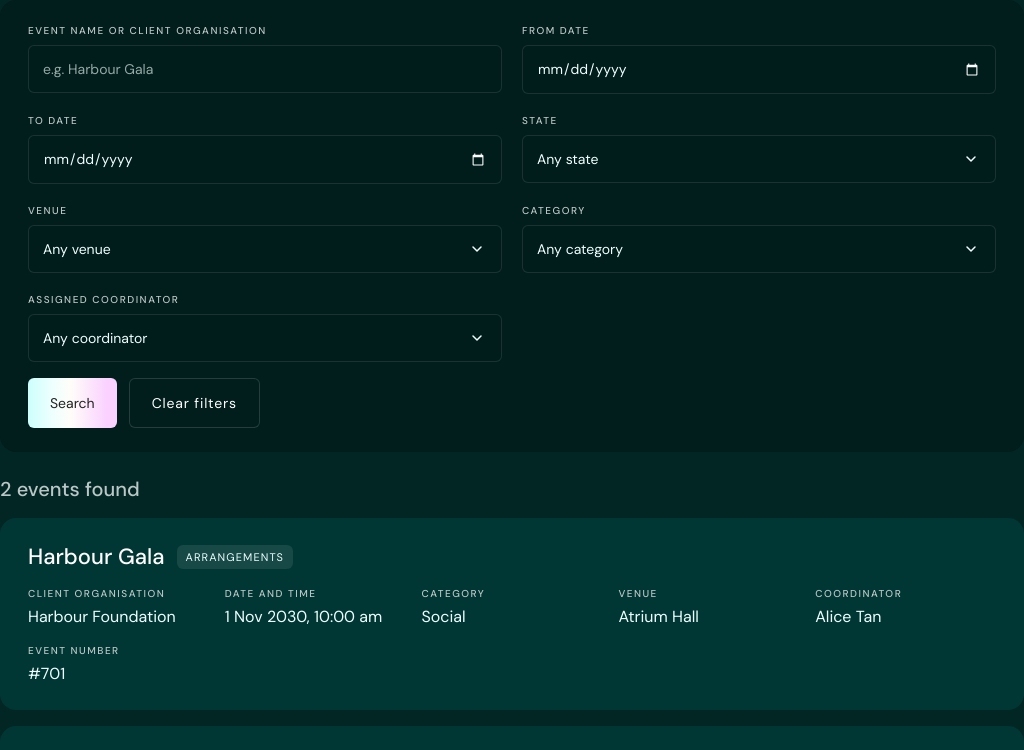
EventSearch (SG2-70) › [NORMAL] [SG2-70:AC1] [SG2-70:AC2] the search text and every filter are sent together
Check: the heading "2 events found" is shown, box [0,476,140,502]
Check: the dropdown labelled "Venue" is enabled, box [28,225,502,273]
Type " harbour " into the search field labelled "Event name or client organisation" at (265, 69), box [28,45,502,93]
Type "2030-11-01" into the date field labelled "From date" at (759, 70), box [522,45,996,94]
Type "2030-11-30" into the date field labelled "To date" at (265, 160), box [28,135,502,184]
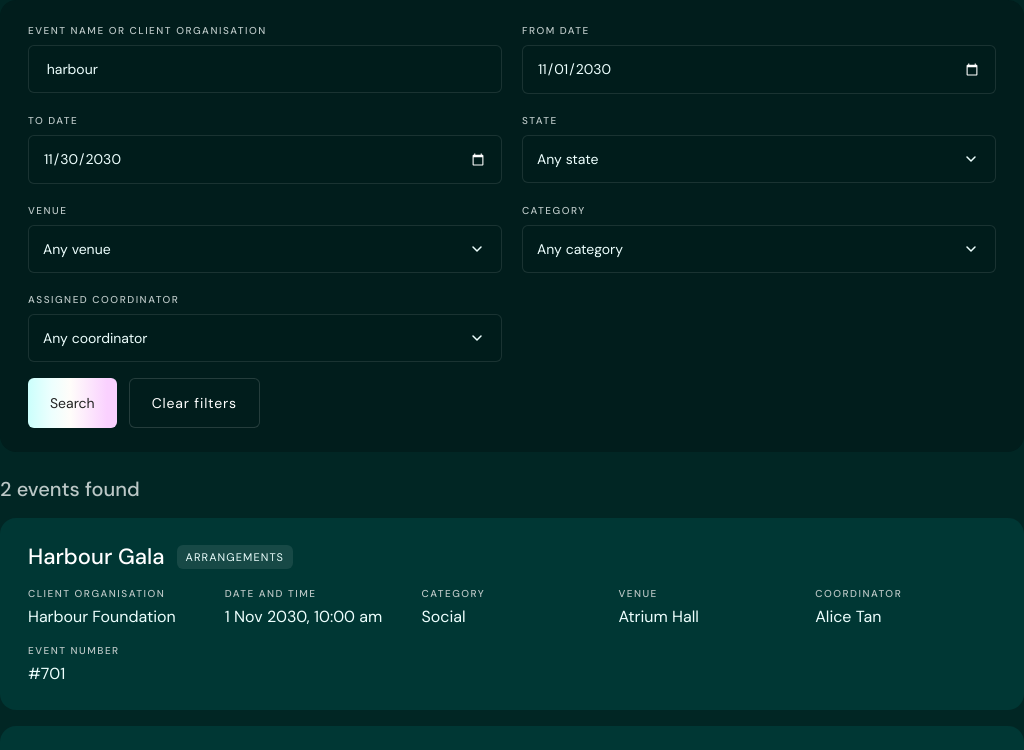
Select "Arrangements" in the dropdown labelled "State" at (759, 159), box [522,135,996,183]
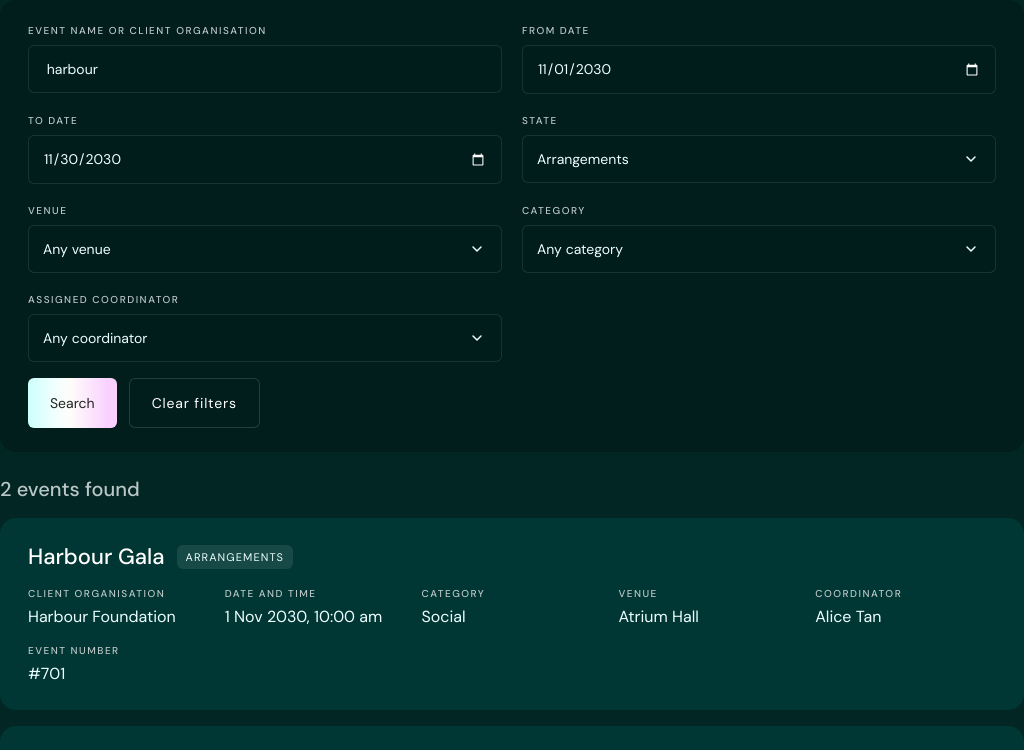
Select "Atrium Hall" in the dropdown labelled "Venue" at (265, 249), box [28,225,502,273]
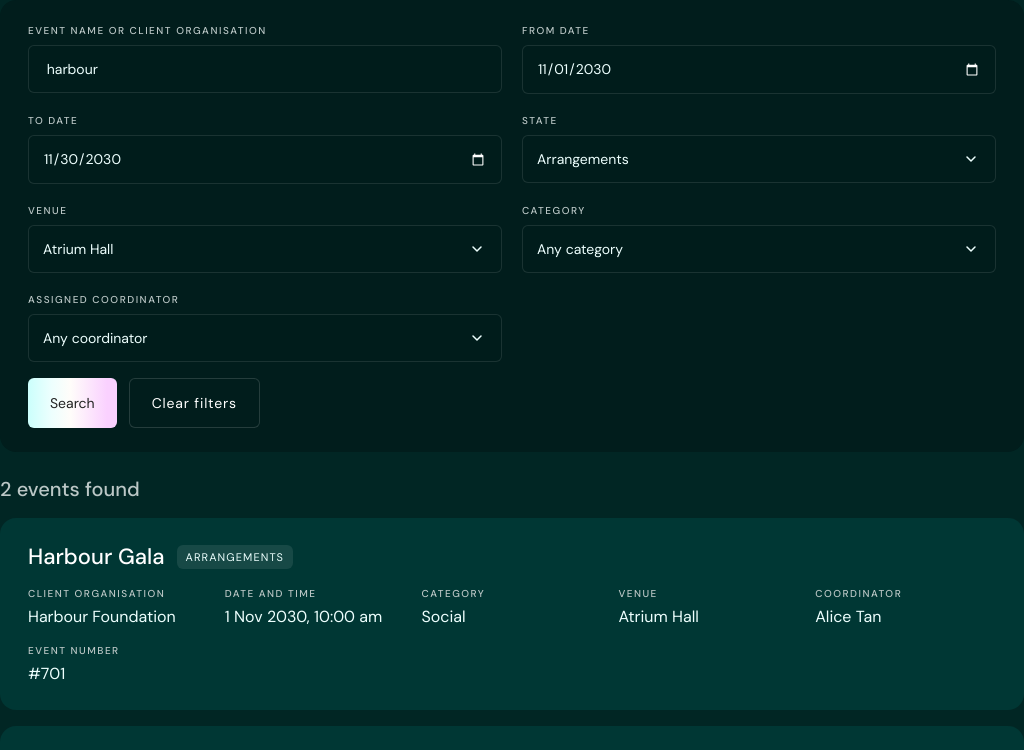
Select "Social" in the dropdown labelled "Category" at (759, 249), box [522,225,996,273]
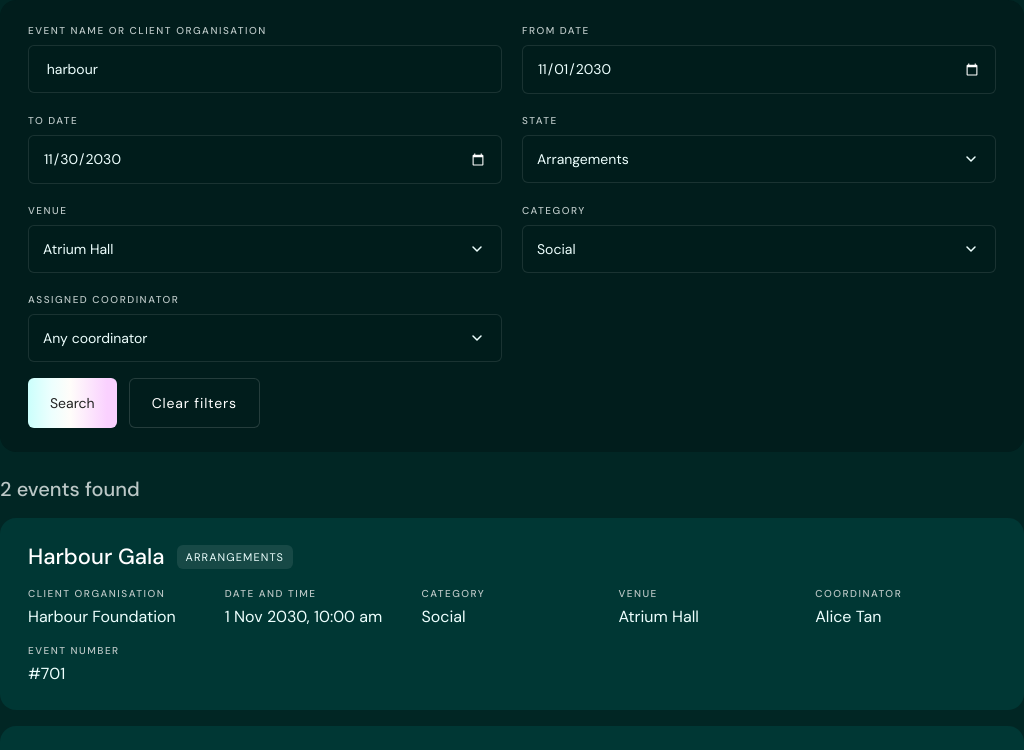
Select "Alice Tan" in the dropdown labelled "Assigned coordinator" at (265, 338), box [28,314,502,362]
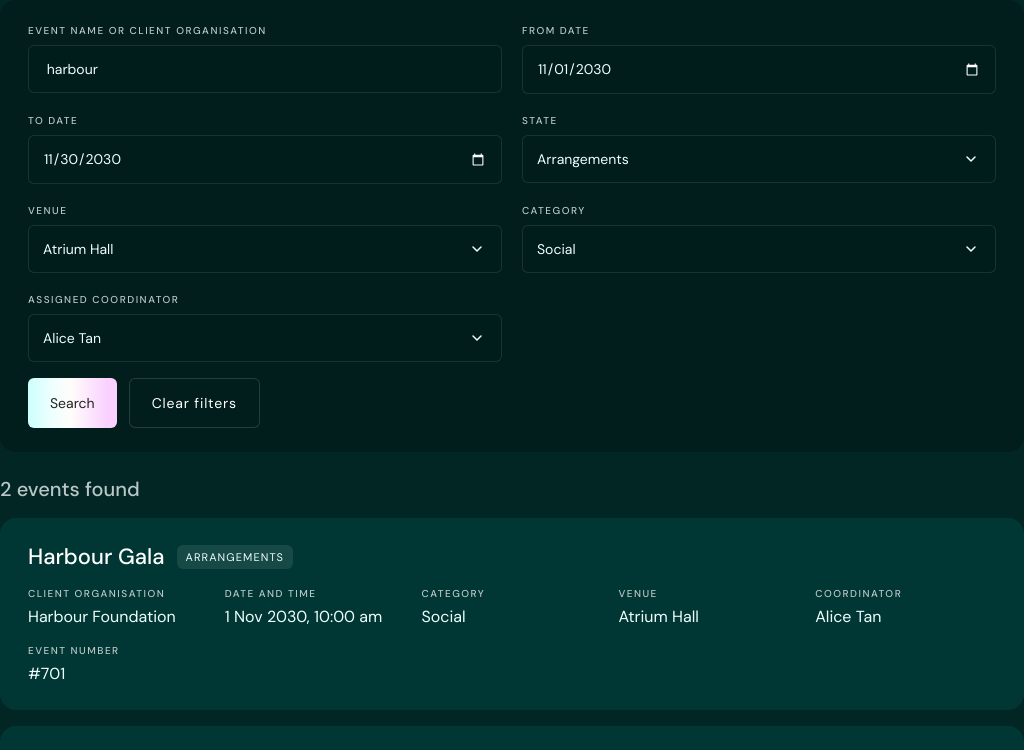
Click the button "Search" at (72, 403), box [28,378,117,428]
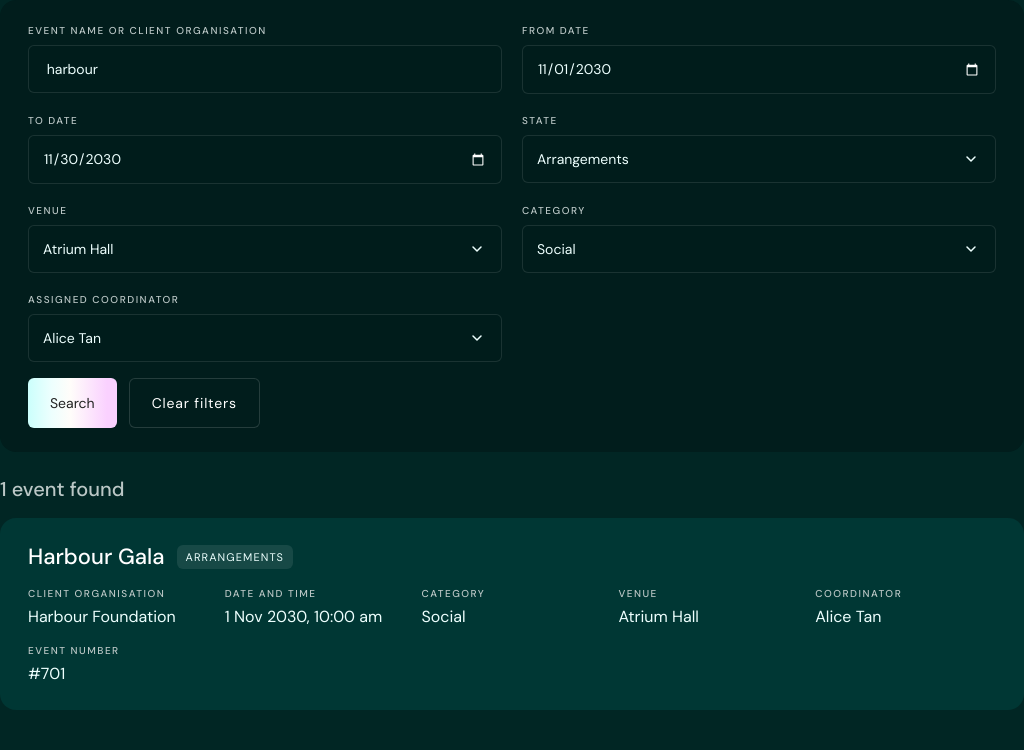
Check: the heading "1 event found" is shown, box [0,476,124,502]
